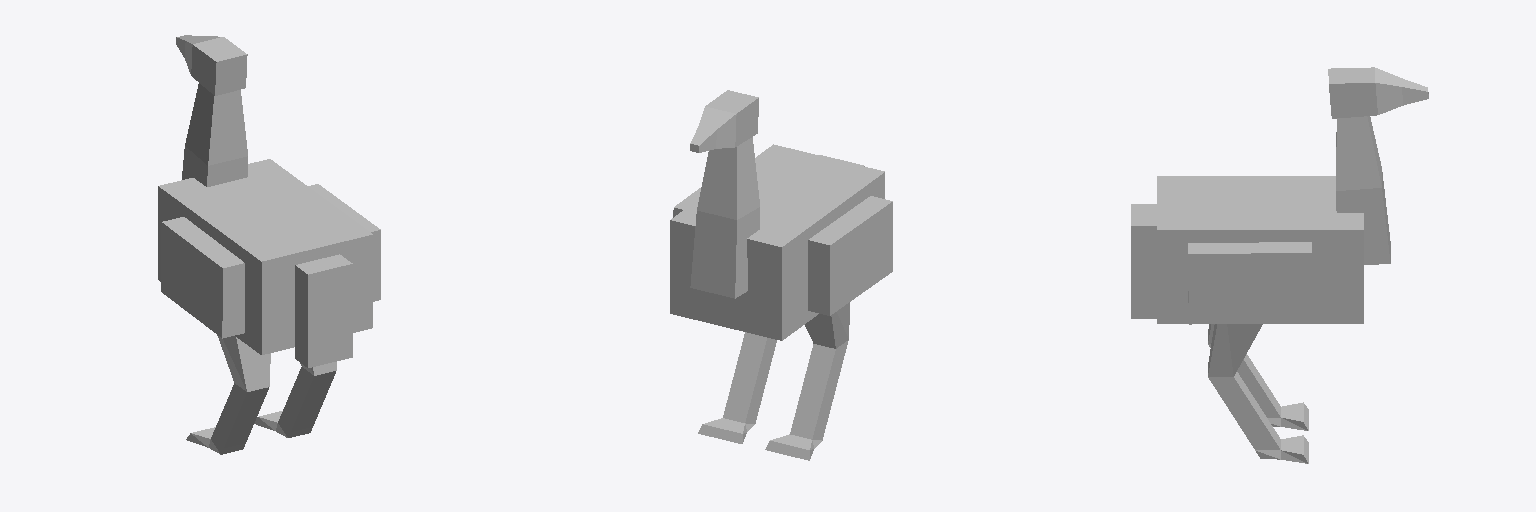
The model's file is Ostrich_000003.obj.
3 renders of one model, left to right at view 1: azimuth 30°, elevation 25°; view 2: azimuth 150°, elevation 25°; view 3: azimuth 270°, elevation 25°, orthographic.
Parts seen in each view (by area): view 1: Cube_Cube.001; view 2: Cube_Cube.001; view 3: Cube_Cube.001.
Boxes of the visible parts, box(x1,y1,x2,y2) form: Cube_Cube.001: box(158, 35, 380, 454); Cube_Cube.001: box(670, 90, 892, 460); Cube_Cube.001: box(1131, 67, 1428, 463).
Size of the model in its own units: 0.7073 by 1.54 by 1.15.